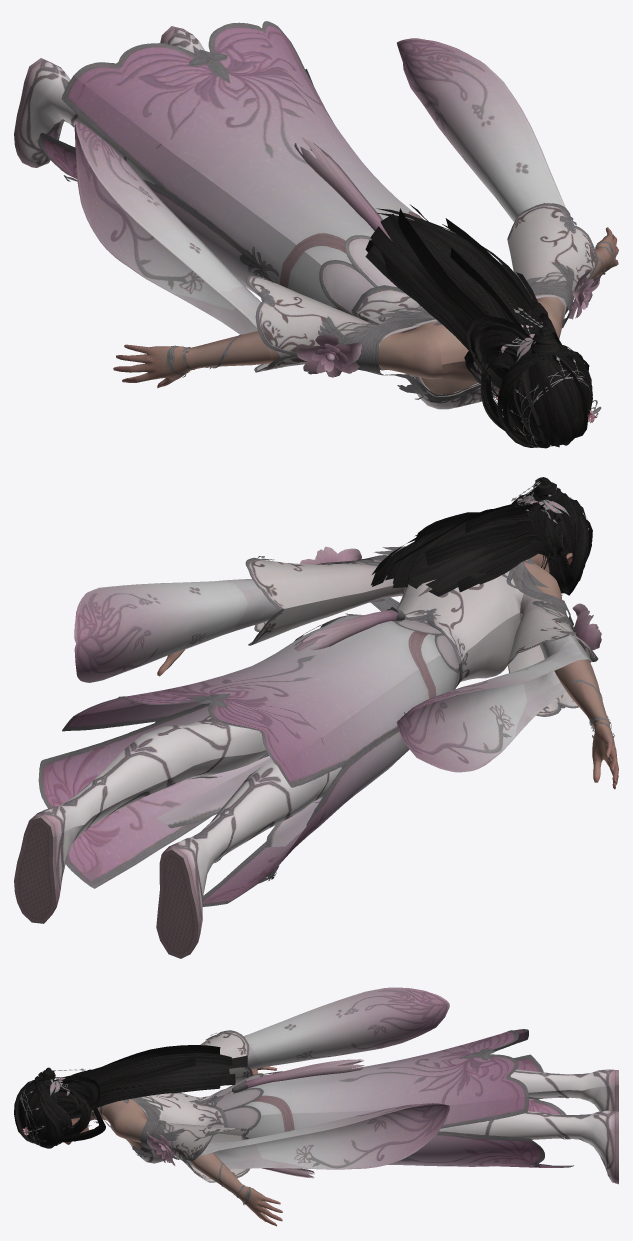
The model's file is model_PVE.obj.
3 views of the same model, one above another, from view 1: azimuth 30°, elevation 25°; view 2: azimuth 150°, elevation 25°; view 3: azimuth 270°, elevation 25° (orthographic). The views are drawn at different scales.
Visible parts, largest first — view 1: mesh_03_479638, mesh_00_123720, mesh_01_261792, mesh_02_363945, mesh_04_554735, mesh_05_590166, mesh_07_666470, mesh_10_772237, mesh_08_747227; view 2: mesh_03_479638, mesh_00_123720, mesh_05_590166, mesh_01_261792, mesh_07_666470, mesh_02_363945, mesh_04_554735; view 3: mesh_00_123720, mesh_03_479638, mesh_01_261792, mesh_05_590166, mesh_02_363945, mesh_07_666470, mesh_04_554735, mesh_10_772237.
Part boxes in pixels (x1=…): mesh_03_479638: x1=39, y1=21, x2=423, y2=315; mesh_00_123720: x1=74, y1=38, x2=601, y2=409; mesh_01_261792: x1=365, y1=204, x2=561, y2=445; mesh_02_363945: x1=496, y1=326, x2=592, y2=448; mesh_04_554735: x1=268, y1=277, x2=590, y2=394; mesh_05_590166: x1=14, y1=26, x2=204, y2=184; mesh_07_666470: x1=113, y1=227, x2=618, y2=388; mesh_10_772237: x1=493, y1=324, x2=601, y2=447; mesh_08_747227: x1=166, y1=241, x2=614, y2=377; mesh_03_479638: x1=38, y1=606, x2=459, y2=906; mesh_00_123720: x1=74, y1=546, x2=601, y2=772; mesh_05_590166: x1=14, y1=715, x2=341, y2=958; mesh_01_261792: x1=371, y1=502, x2=575, y2=596; mesh_07_666470: x1=157, y1=649, x2=618, y2=789; mesh_02_363945: x1=511, y1=477, x2=592, y2=595; mesh_04_554735: x1=524, y1=558, x2=591, y2=675; mesh_00_123720: x1=91, y1=987, x2=449, y2=1182; mesh_03_479638: x1=201, y1=1029, x2=573, y2=1178; mesh_01_261792: x1=31, y1=1045, x2=247, y2=1142; mesh_05_590166: x1=439, y1=1069, x2=618, y2=1184; mesh_02_363945: x1=14, y1=1067, x2=72, y2=1148; mesh_07_666470: x1=196, y1=1066, x2=282, y2=1226; mesh_04_554735: x1=90, y1=1099, x2=203, y2=1168; mesh_10_772237: x1=20, y1=1076, x2=72, y2=1148.
Bounding box in the file's own units: 103 × 39.4 × 165.
